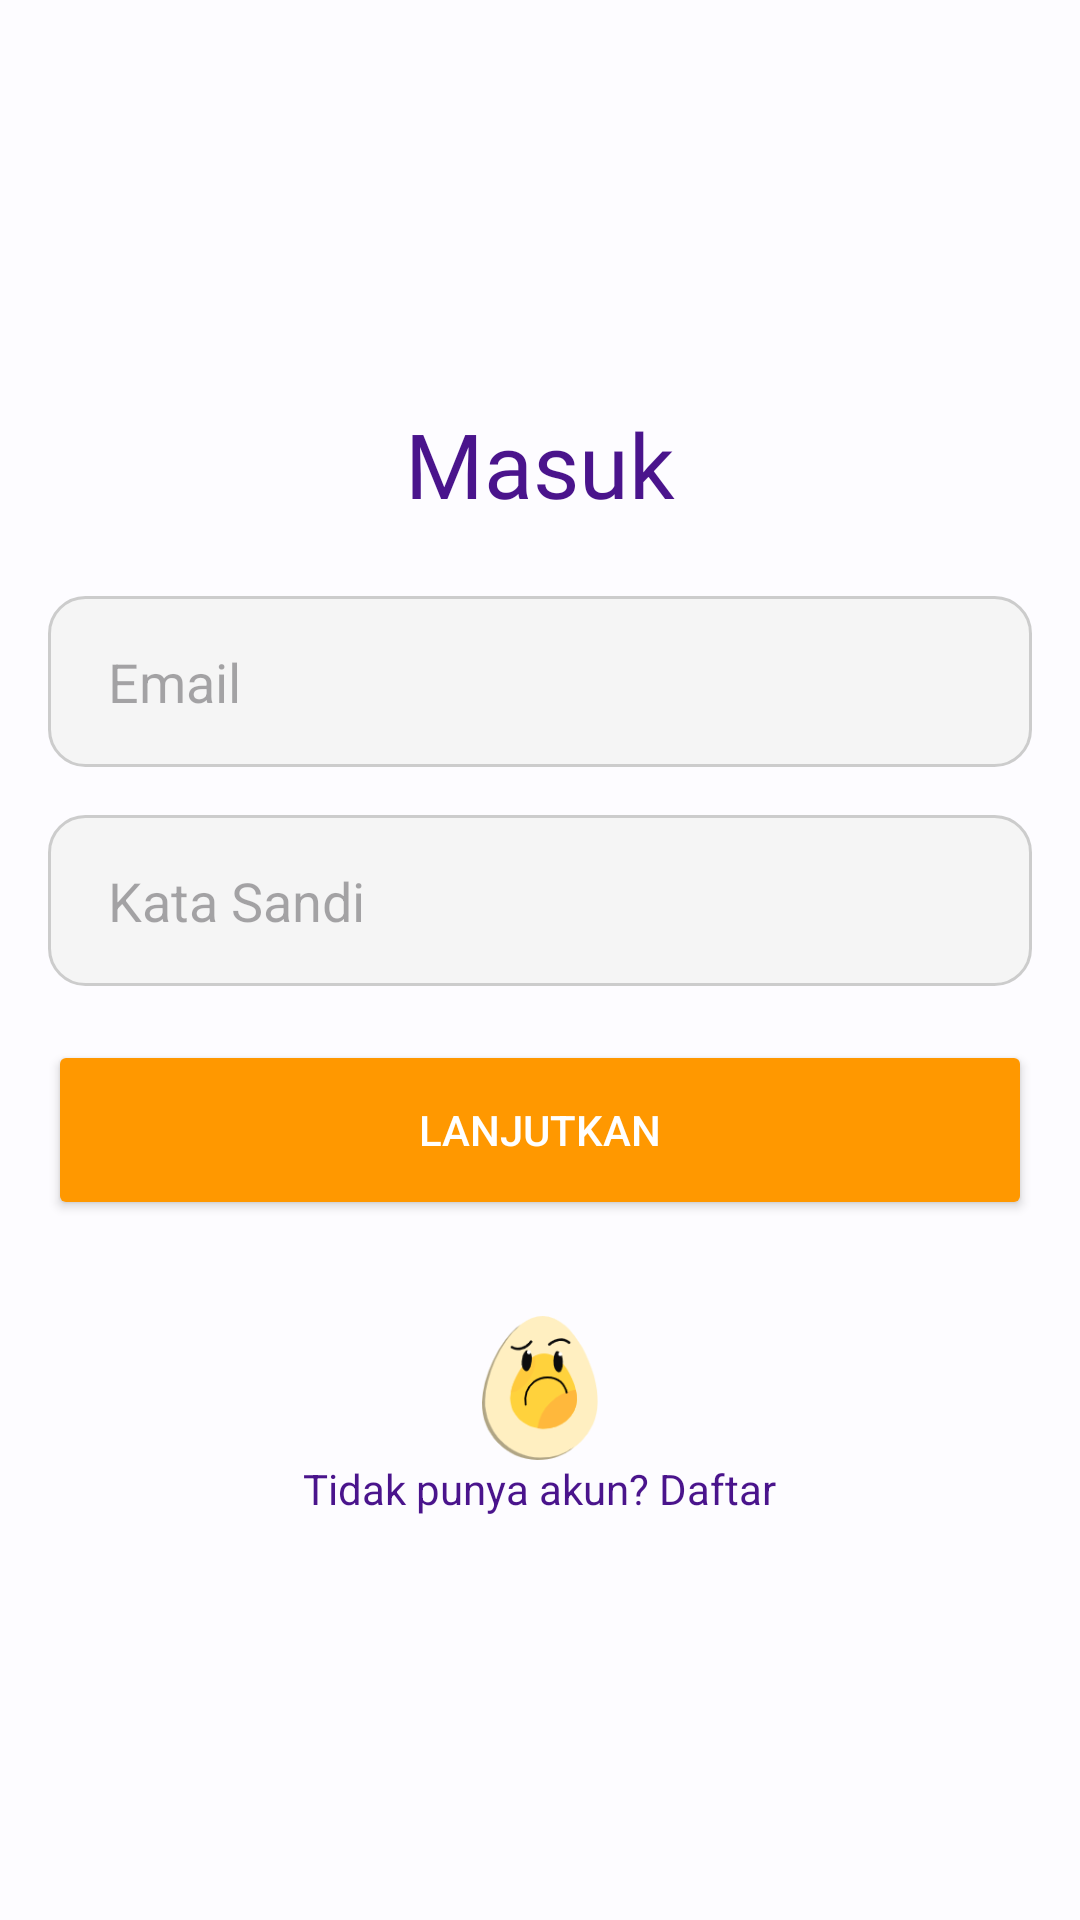

Named icons in this screenshot (1080*1920) and their centers, [x,y]:
Ikon Telur: [540,1388]
